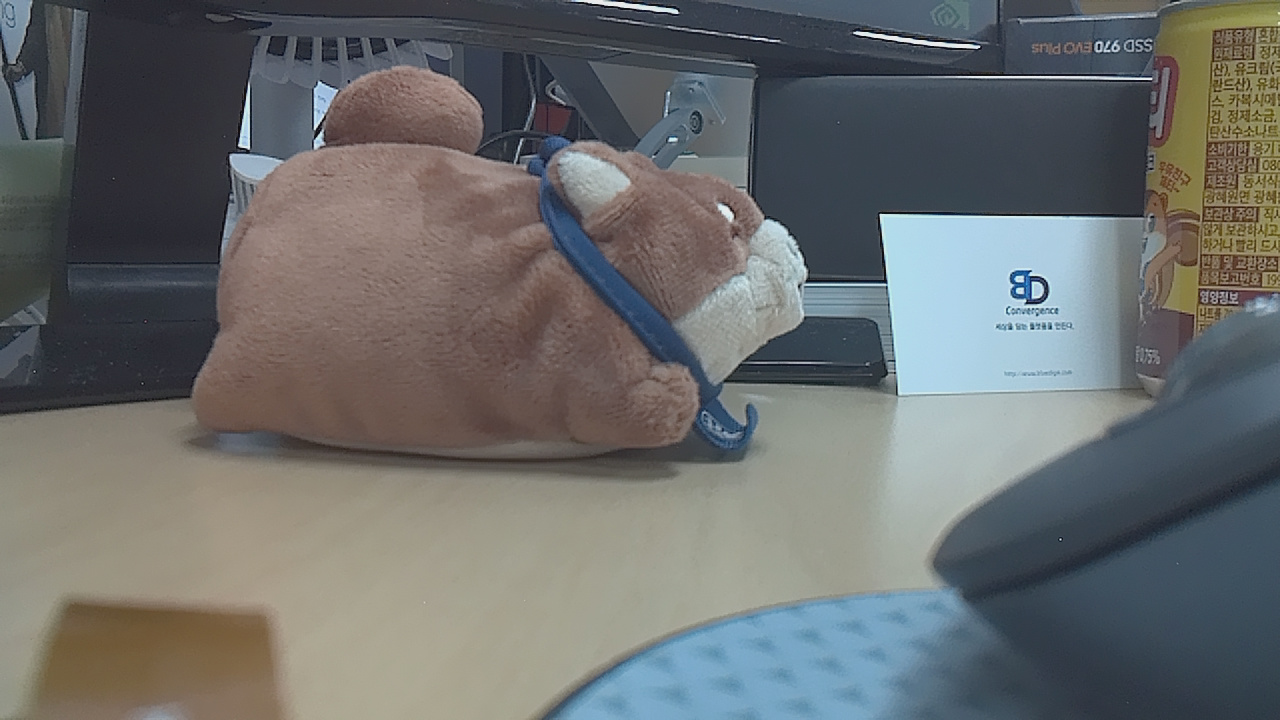cuteDog: (222, 68, 733, 506)
